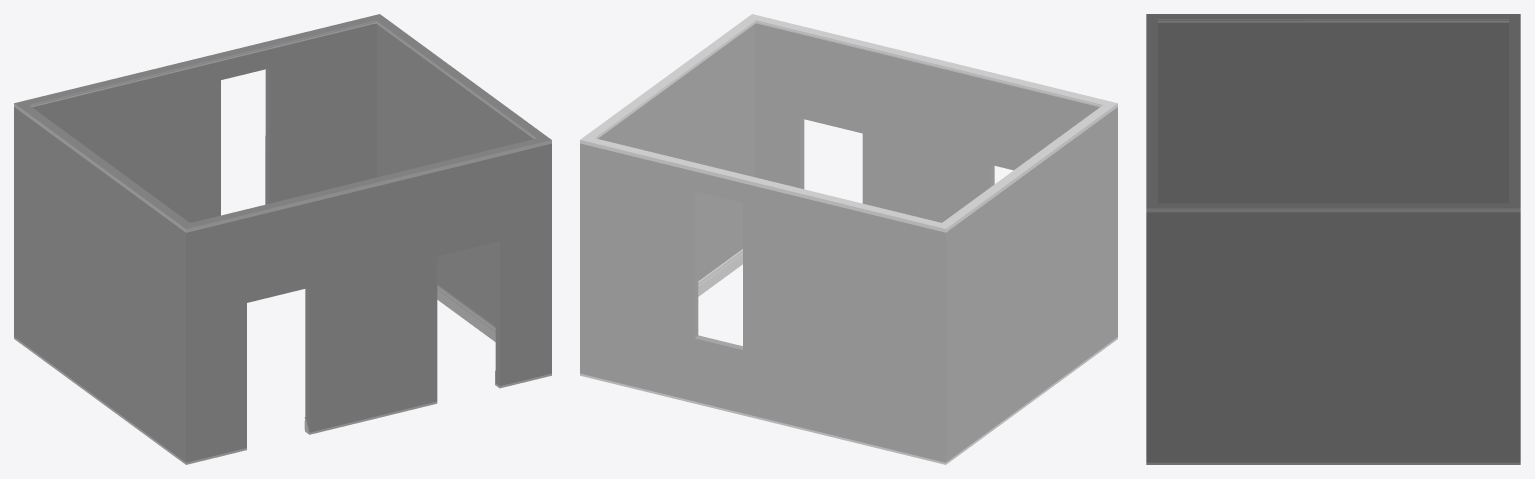
File: FP322:StandardWallSize_018_ade6d933.obj
3 views of the same model, side by side, from view 1: azimuth 30°, elevation 25°; view 2: azimuth 150°, elevation 25°; view 3: azimuth 270°, elevation 25° (orthographic). The views are drawn at different scales.
Parts seen in each view (by area): view 1: FP322:StandardWallSize.018_ade6d933; view 2: FP322:StandardWallSize.018_ade6d933; view 3: FP322:StandardWallSize.018_ade6d933.
Part boxes in pixels (left/top/right/bottom): FP322:StandardWallSize.018_ade6d933: left=14, top=14, right=551, bottom=464; FP322:StandardWallSize.018_ade6d933: left=580, top=14, right=1117, bottom=464; FP322:StandardWallSize.018_ade6d933: left=1146, top=14, right=1520, bottom=464.
Bounding box in the file's own units: 5.28 × 3.25 × 4.3.
